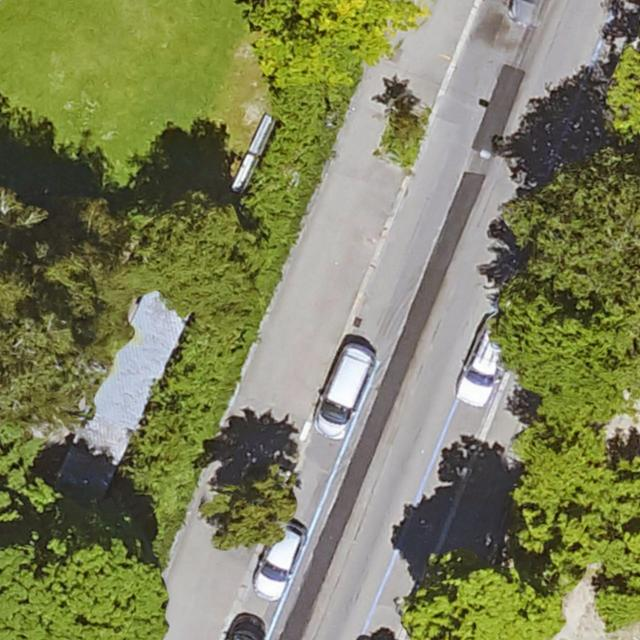tree: (1, 253, 112, 436), (243, 0, 427, 109), (512, 424, 640, 579), (518, 153, 640, 310), (0, 534, 167, 640), (502, 310, 640, 419), (141, 197, 260, 310), (403, 558, 565, 640), (125, 406, 205, 500), (212, 469, 296, 548), (0, 436, 60, 533), (605, 17, 640, 142), (181, 327, 247, 373), (379, 110, 426, 162), (596, 581, 640, 630)
